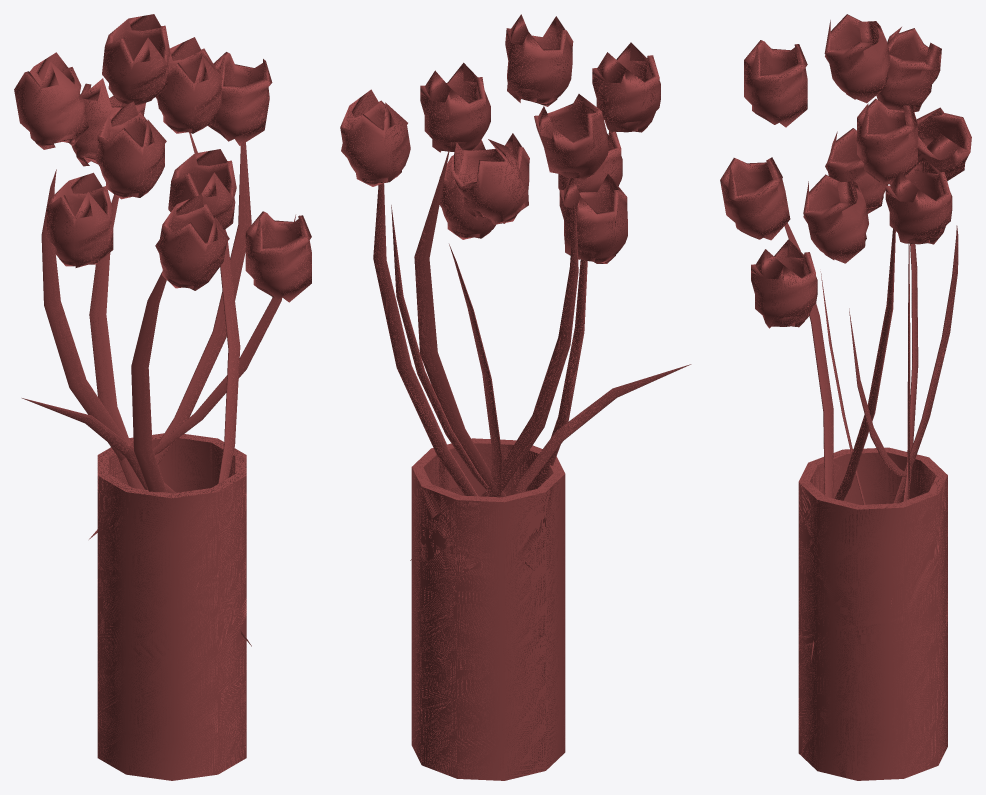
Rendered from flowers.gltf.
The picture shows the model from 3 angles, left to right: view 1: azimuth 30°, elevation 25°; view 2: azimuth 150°, elevation 25°; view 3: azimuth 270°, elevation 25°; orthographic projection. The views are drawn at different scales.
Parts seen in each view (by area): view 1: Flowers_1, Flowers_3, Flowers_2; view 2: Flowers_1, Flowers_3, Flowers_2; view 3: Flowers_1, Flowers_3, Flowers_2.
Part boxes in pixels (<box>): Flowers_1: <box>97,433,246,780</box>; Flowers_3: <box>14,14,311,302</box>; Flowers_2: <box>22,132,295,646</box>; Flowers_1: <box>411,438,565,780</box>; Flowers_3: <box>340,14,660,263</box>; Flowers_2: <box>373,151,691,570</box>; Flowers_1: <box>798,447,947,780</box>; Flowers_3: <box>720,14,971,328</box>; Flowers_2: <box>784,222,958,662</box>.
Bounding box in the file's own units: 39.27 × 93.84 × 29.91.
